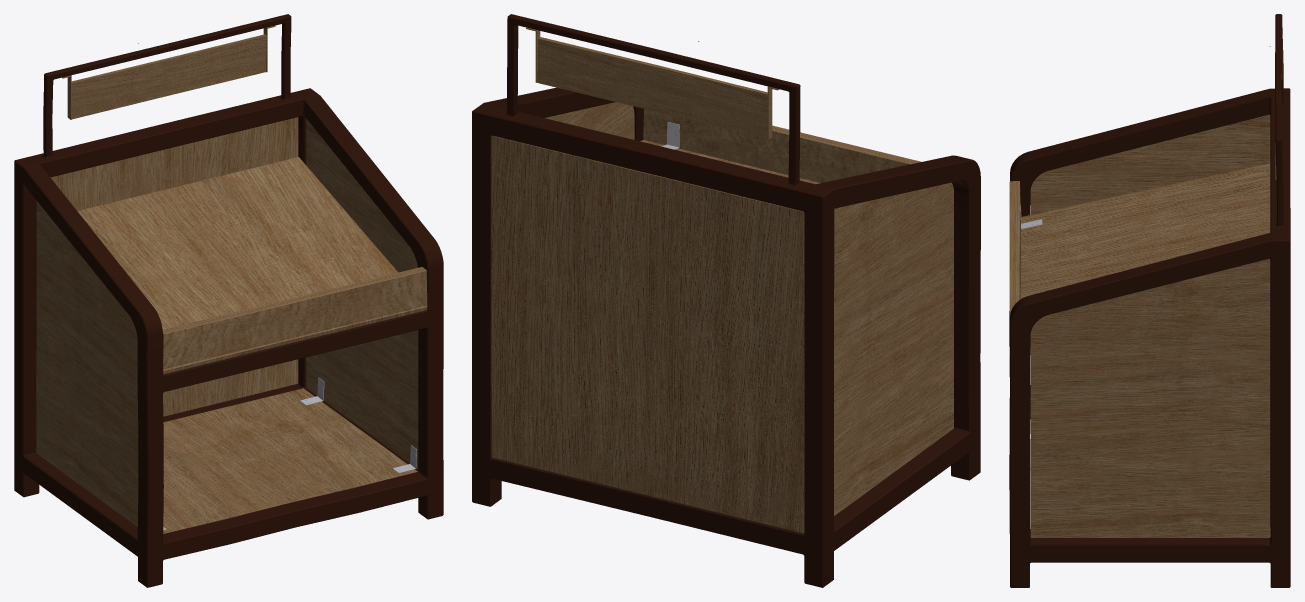
Rendered from schelfMiddleMetal.fbx.
3 renders of one model, left to right at view 1: azimuth 30°, elevation 25°; view 2: azimuth 150°, elevation 25°; view 3: azimuth 270°, elevation 25°, orthographic. The views are drawn at different scales.
Parts seen in each view (by area): view 1: Structure, SideWood, MainWood, BottomWood, BackWood, Structure.003, Structure.001; view 2: BackWood, Structure, SideWood, Structure.001, Structure.003; view 3: SideWood, Structure, MainWood, Structure.003.
Boxes of the visible parts, x1=… form: Structure: x1=14, y1=14, x2=443, y2=587; SideWood: x1=36, y1=119, x2=418, y2=526; MainWood: x1=77, y1=157, x2=427, y2=374; BottomWood: x1=163, y1=388, x2=417, y2=533; BackWood: x1=50, y1=117, x2=298, y2=416; Structure.003: x1=162, y1=267, x2=427, y2=369; Structure.001: x1=71, y1=34, x2=266, y2=119; BackWood: x1=491, y1=136, x2=804, y2=533; Structure: x1=472, y1=14, x2=980, y2=587; SideWood: x1=544, y1=102, x2=953, y2=515; Structure.001: x1=537, y1=37, x2=767, y2=138; Structure.003: x1=643, y1=109, x2=921, y2=182; SideWood: x1=1030, y1=114, x2=1270, y2=537; Structure: x1=1009, y1=14, x2=1290, y2=587; MainWood: x1=1009, y1=163, x2=1270, y2=355; Structure.003: x1=1009, y1=181, x2=1021, y2=331.
Bounding box in the file's own units: 90.12 × 124 × 70.16.
